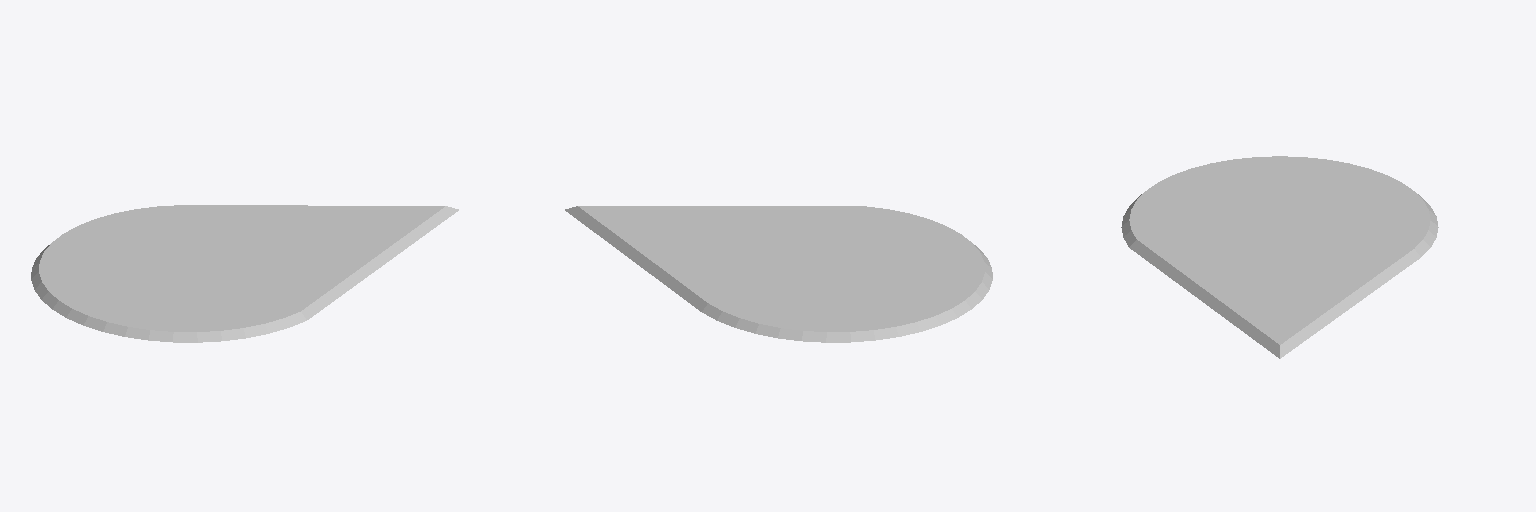
The model's file is DialThicker.obj.
The picture shows the model from 3 angles: view 1: azimuth 30°, elevation 25°; view 2: azimuth 150°, elevation 25°; view 3: azimuth 270°, elevation 25°; orthographic projection.
Visible parts, largest first — view 1: Cube; view 2: Cube; view 3: Cube.
Boxes of the visible parts, <box> form: Cube: <box>31,205,458,342</box>; Cube: <box>565,206,992,342</box>; Cube: <box>1121,156,1438,358</box>.
Bounding box in the file's own units: 2.97 × 0.05 × 2.